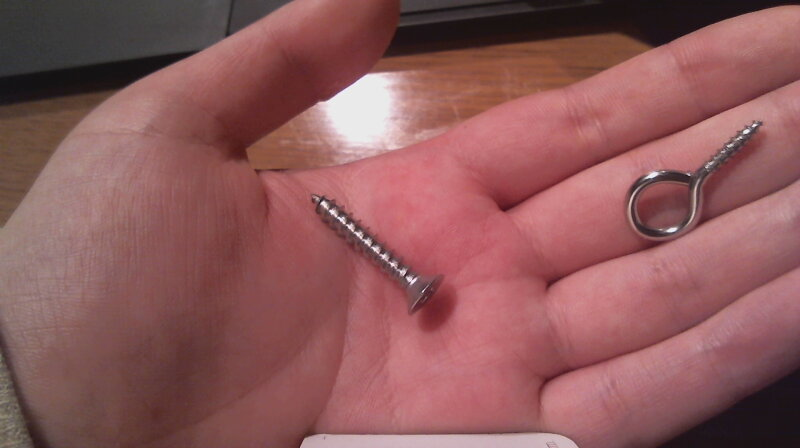O001: (622, 109, 769, 247)
S001: (308, 191, 449, 321)
